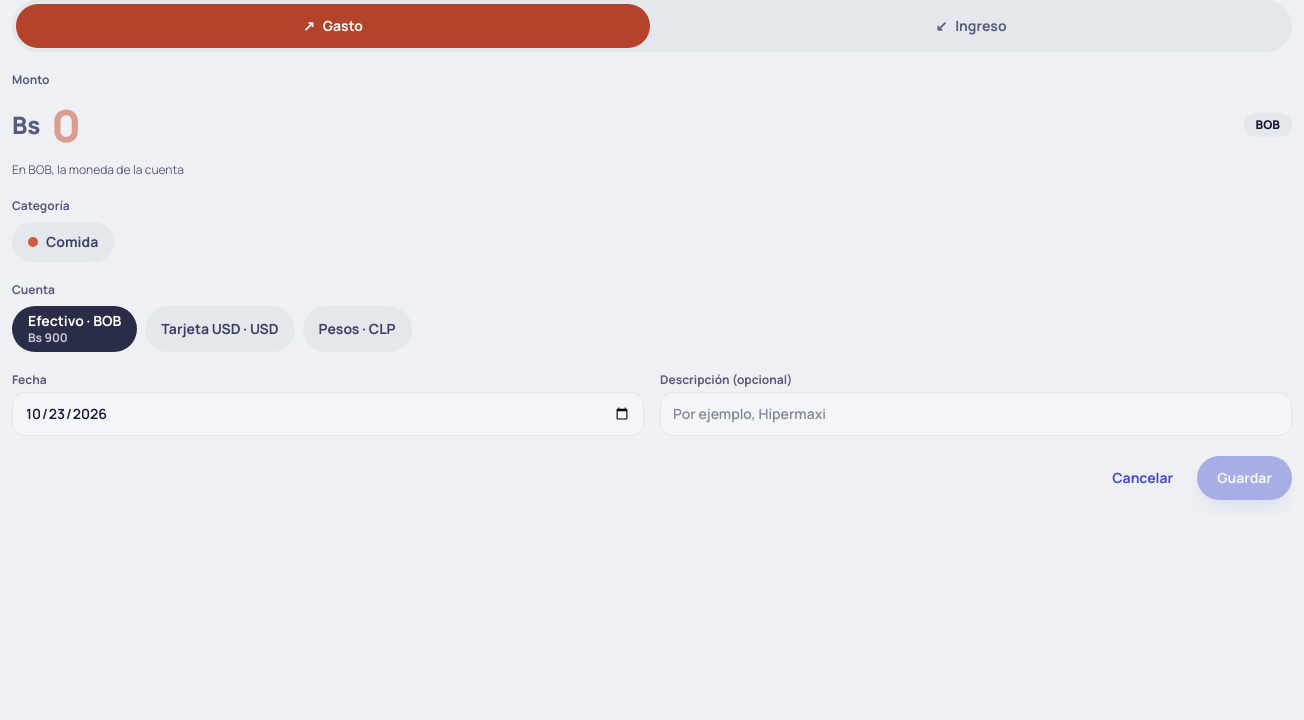
Test: QuickAddForm › an income offers only income categories
Expected: the button "Comida" is shown, [12,222,114,262]
Click the radio button labelled "Ingreso".
click(971, 26)  # box [654,4,1288,48]
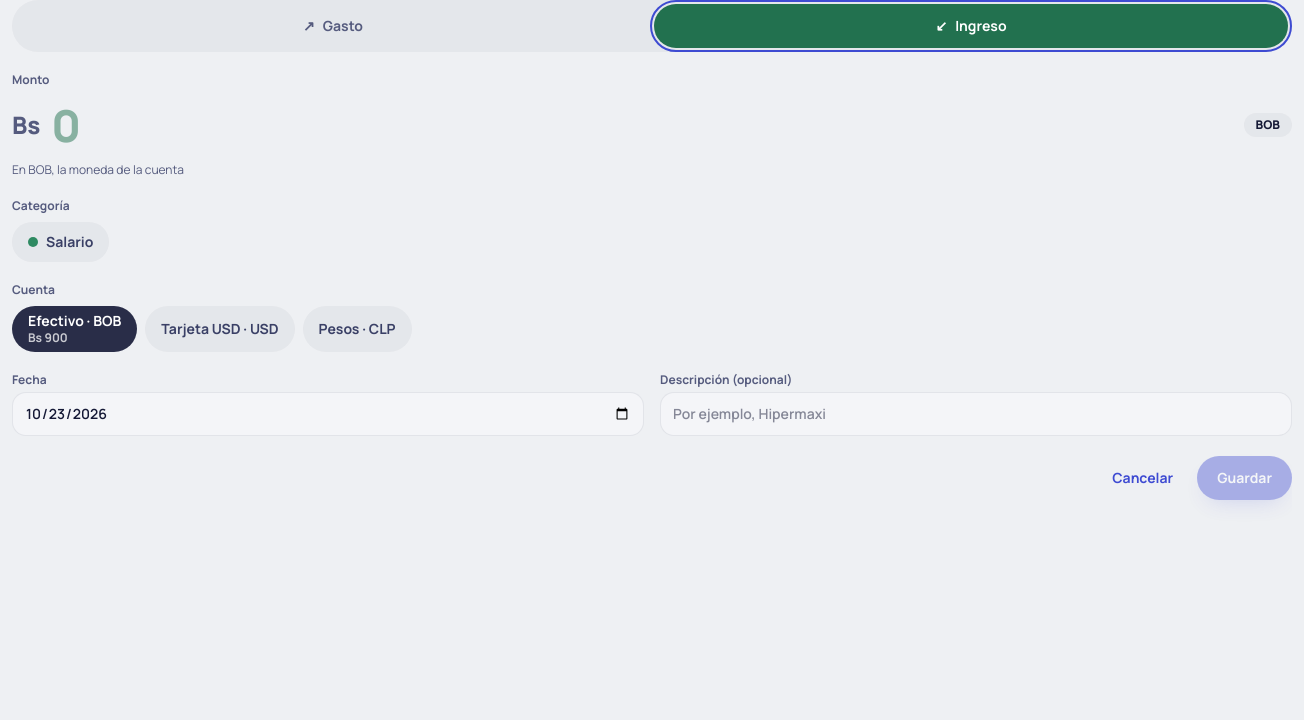
Now the button "Comida" is gone
Now the button "Salario" is shown, box [12,222,109,262]
